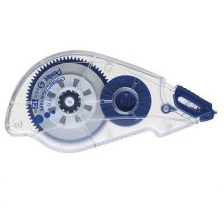correction_fluid: (2, 47, 219, 154)
